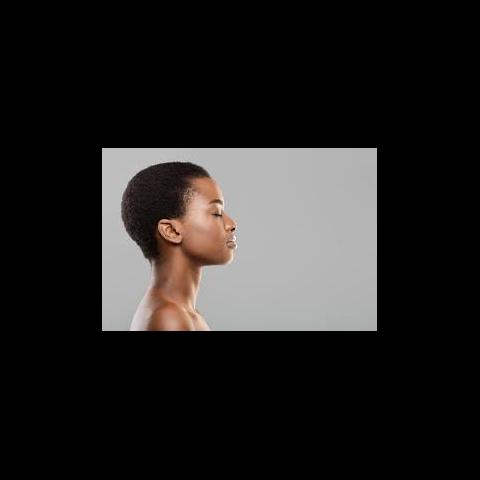closed: (208, 200, 229, 222)
